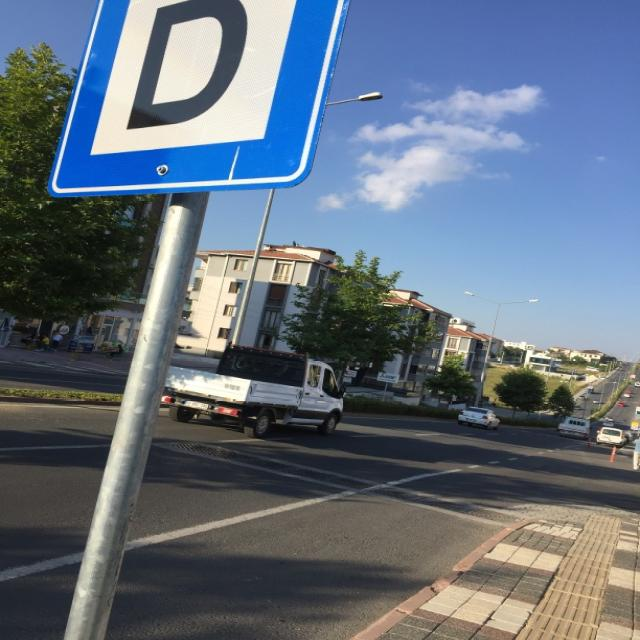durak: (47, 1, 347, 206)
